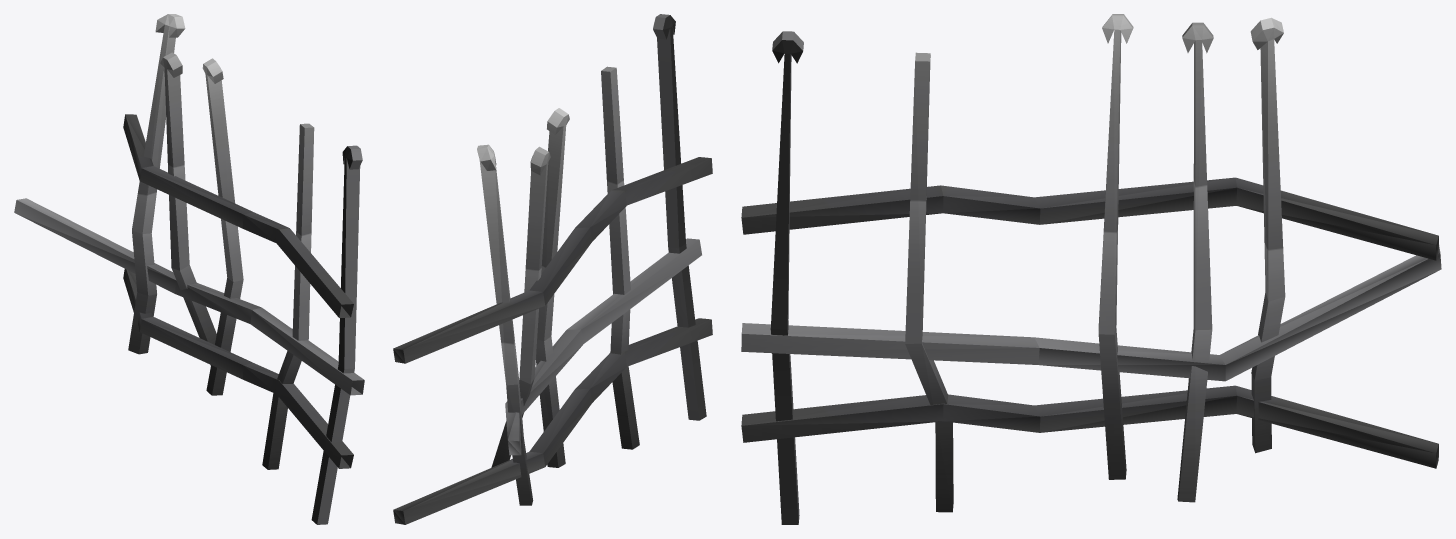
File: ea_arch_wall02_ruin_01a_pre_1_lev1.glb
3 renders of one model, left to right at view 1: azimuth 30°, elevation 25°; view 2: azimuth 150°, elevation 25°; view 3: azimuth 270°, elevation 25°, orthographic. The views are drawn at different scales.
Parts seen in each view (by area): view 1: ea_arch_wall02_ruin_01a_pre_1_lev1; view 2: ea_arch_wall02_ruin_01a_pre_1_lev1; view 3: ea_arch_wall02_ruin_01a_pre_1_lev1.
Part boxes in pixels (<box>): ea_arch_wall02_ruin_01a_pre_1_lev1: <box>14,14,364,524</box>; ea_arch_wall02_ruin_01a_pre_1_lev1: <box>393,14,712,524</box>; ea_arch_wall02_ruin_01a_pre_1_lev1: <box>741,14,1441,524</box>.
Bounding box in the file's own units: 0.9364 × 2.77 × 3.39.
1 material, 1 textured.
